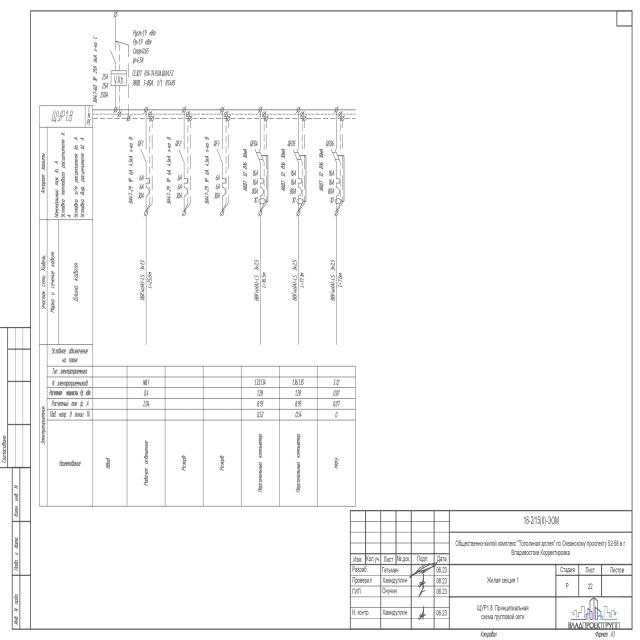-: (91, 34, 109, 104), (204, 135, 220, 205), (166, 135, 182, 205), (128, 135, 144, 205), (318, 148, 334, 205), (242, 148, 258, 205), (280, 148, 296, 205), (132, 68, 176, 87), (50, 108, 74, 124)
QF: (178, 146, 190, 200), (216, 144, 228, 198), (140, 144, 151, 198)
QFD: (254, 145, 269, 204), (292, 146, 307, 205), (331, 147, 346, 205)
QS: (110, 45, 116, 64)
WH: (110, 69, 127, 86)
